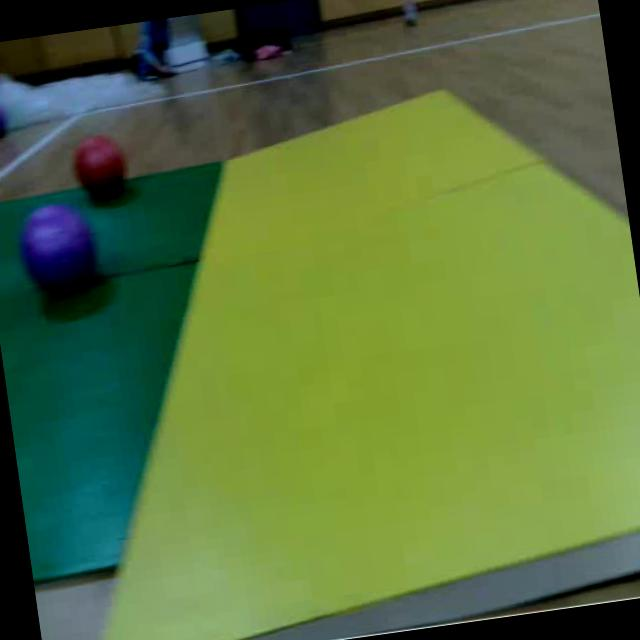purple_ball: (15, 198, 106, 306), (0, 96, 10, 144)
red_ball: (68, 128, 130, 204)
